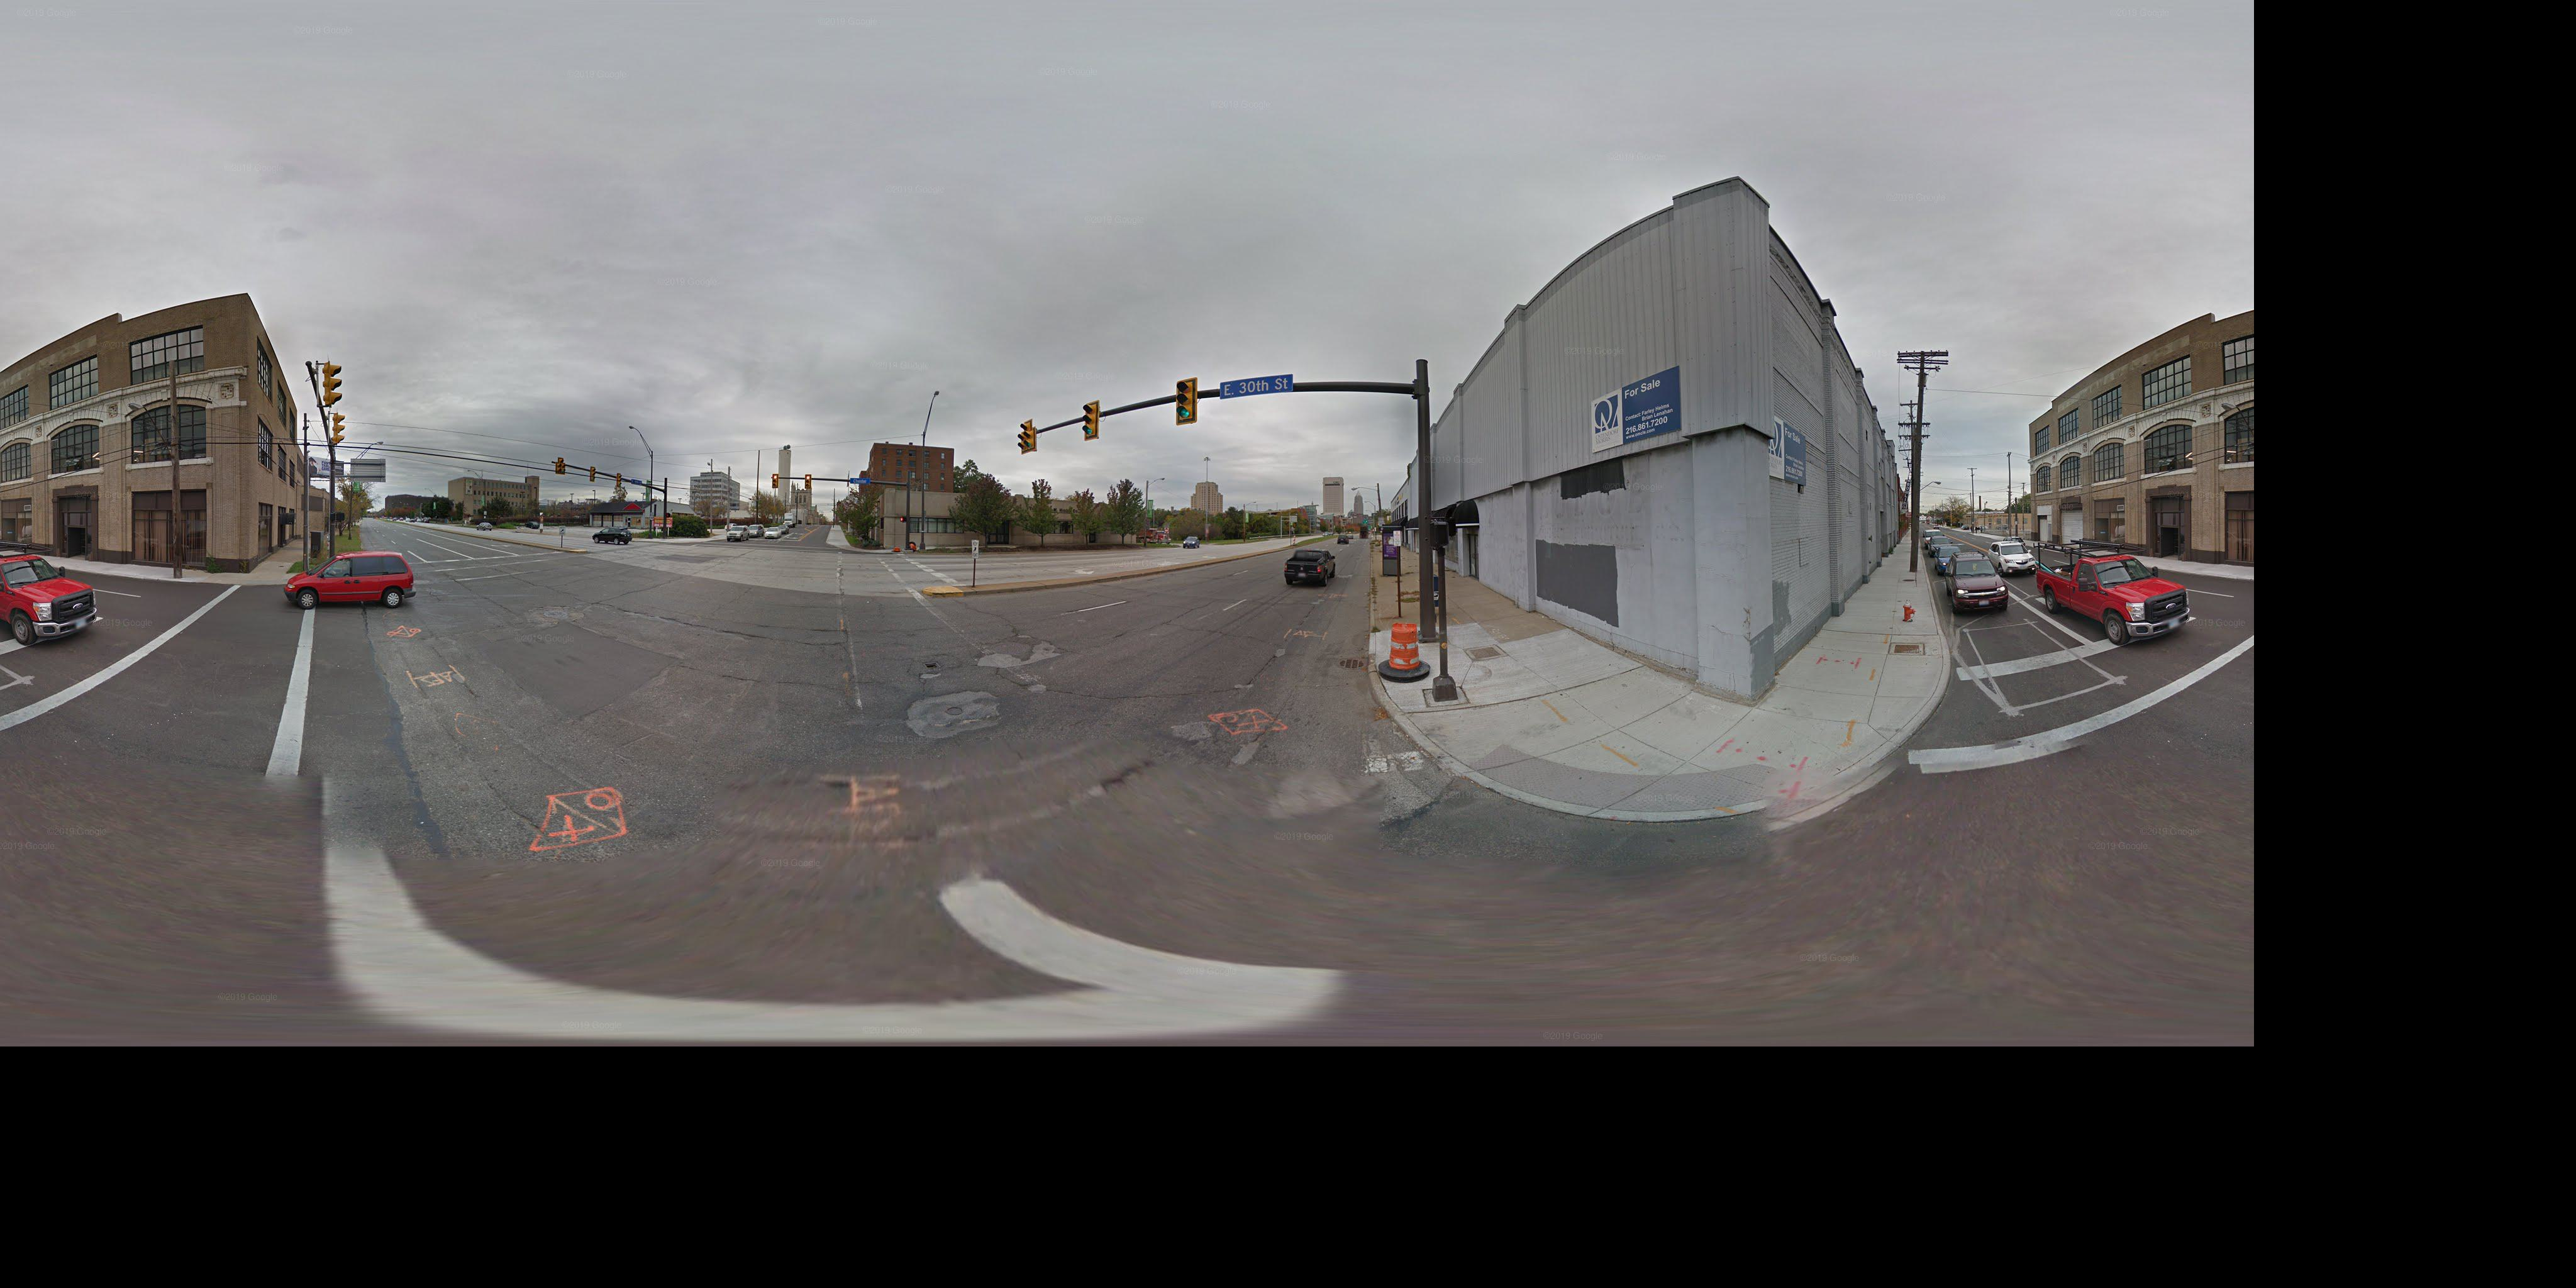Curb Ramp: (1451, 713, 1766, 854), (838, 545, 864, 555)
Missing Curb Ramp: (1845, 664, 1968, 774), (240, 575, 287, 598)
